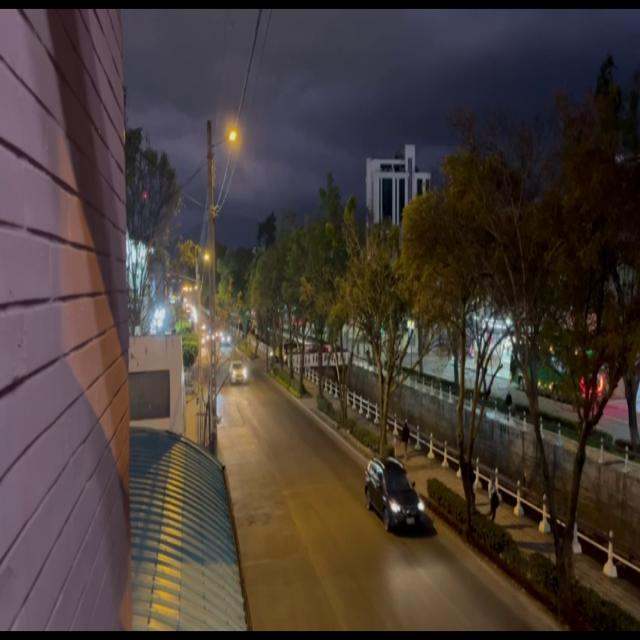SUV: (368, 459, 426, 532), (230, 362, 250, 387)
